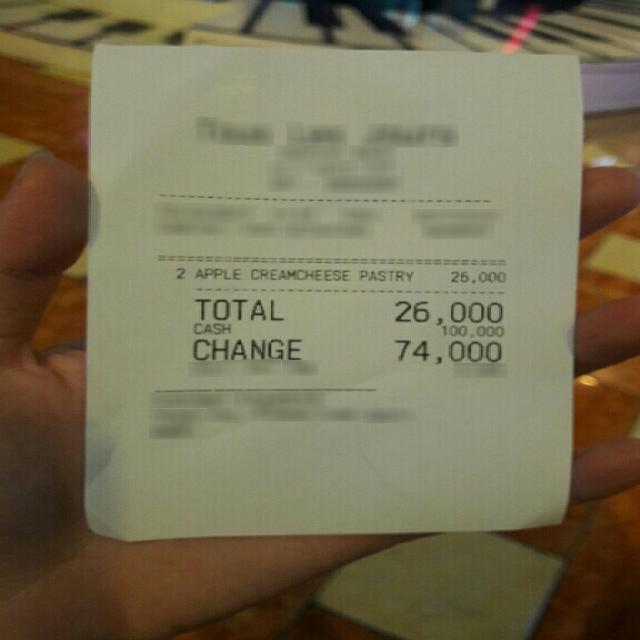kertas: (84, 46, 583, 547)
